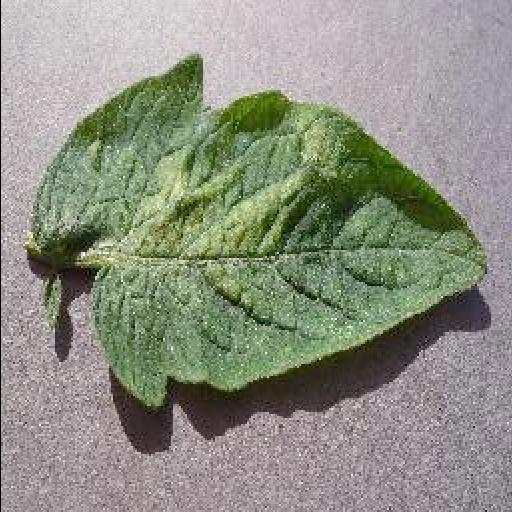disease_tomato: (32, 56, 488, 406)
